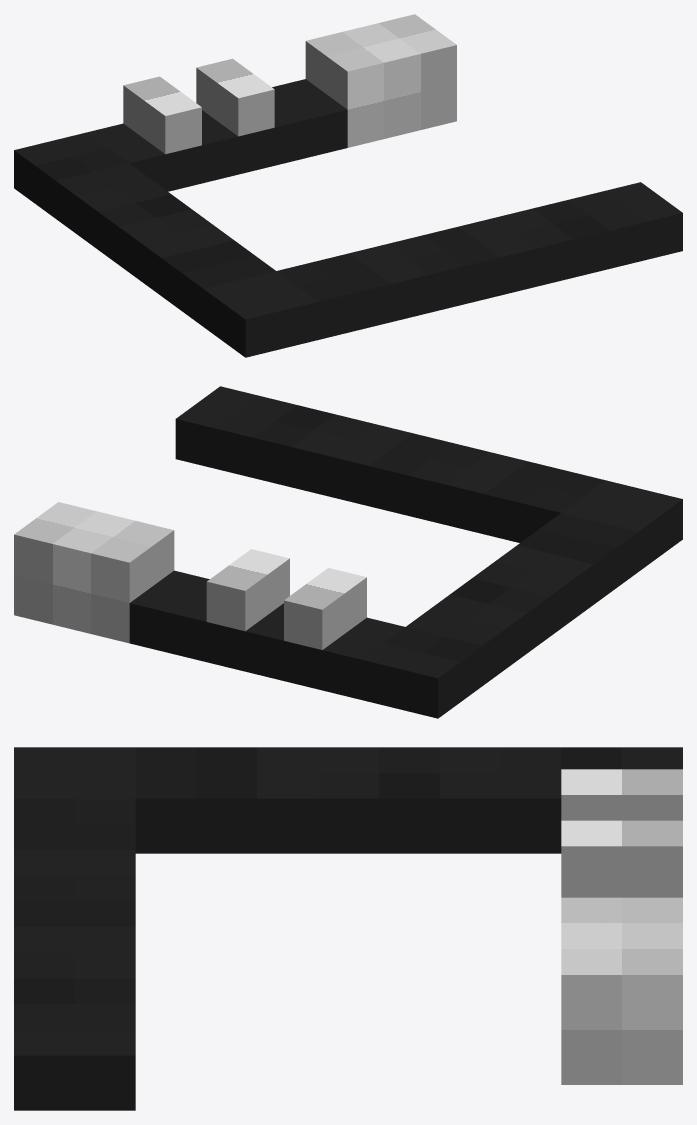
Rendered from Belt.fbx.
The picture shows the model from 3 angles, top to bottom: view 1: azimuth 30°, elevation 25°; view 2: azimuth 150°, elevation 25°; view 3: azimuth 270°, elevation 25°; orthographic projection. The views are drawn at different scales.
Visible parts, largest first — view 1: cube, cube_1, cube_5, cube_2, cube_4, cube_3; view 2: cube, cube_1, cube_5, cube_2, cube_3, cube_4; view 3: cube_1, cube, cube_5, cube_3, cube_4.
Part boxes in pixels (<box>): cube: <box>203,182,682,357</box>; cube_1: <box>14,132,275,326</box>; cube_5: <box>305,14,456,147</box>; cube_2: <box>87,79,347,191</box>; cube_4: <box>123,76,201,154</box>; cube_3: <box>196,58,274,136</box>; cube: <box>175,386,682,571</box>; cube_1: <box>361,513,638,718</box>; cube_5: <box>14,502,174,643</box>; cube_2: <box>129,570,404,699</box>; cube_3: <box>206,549,289,631</box>; cube_4: <box>284,568,366,649</box>; cube_1: <box>135,747,682,853</box>; cube: <box>14,747,135,1110</box>; cube_5: <box>561,897,682,1084</box>; cube_3: <box>561,820,682,897</box>; cube_4: <box>561,769,682,820</box>.
Size of the model in its own units: 75 by 12.5 by 68.75.
1 material, 1 textured.
